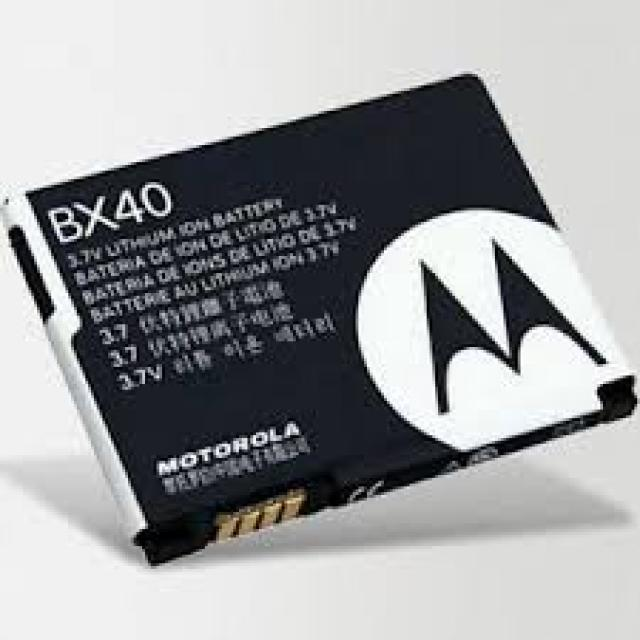battery: (7, 74, 640, 567)
